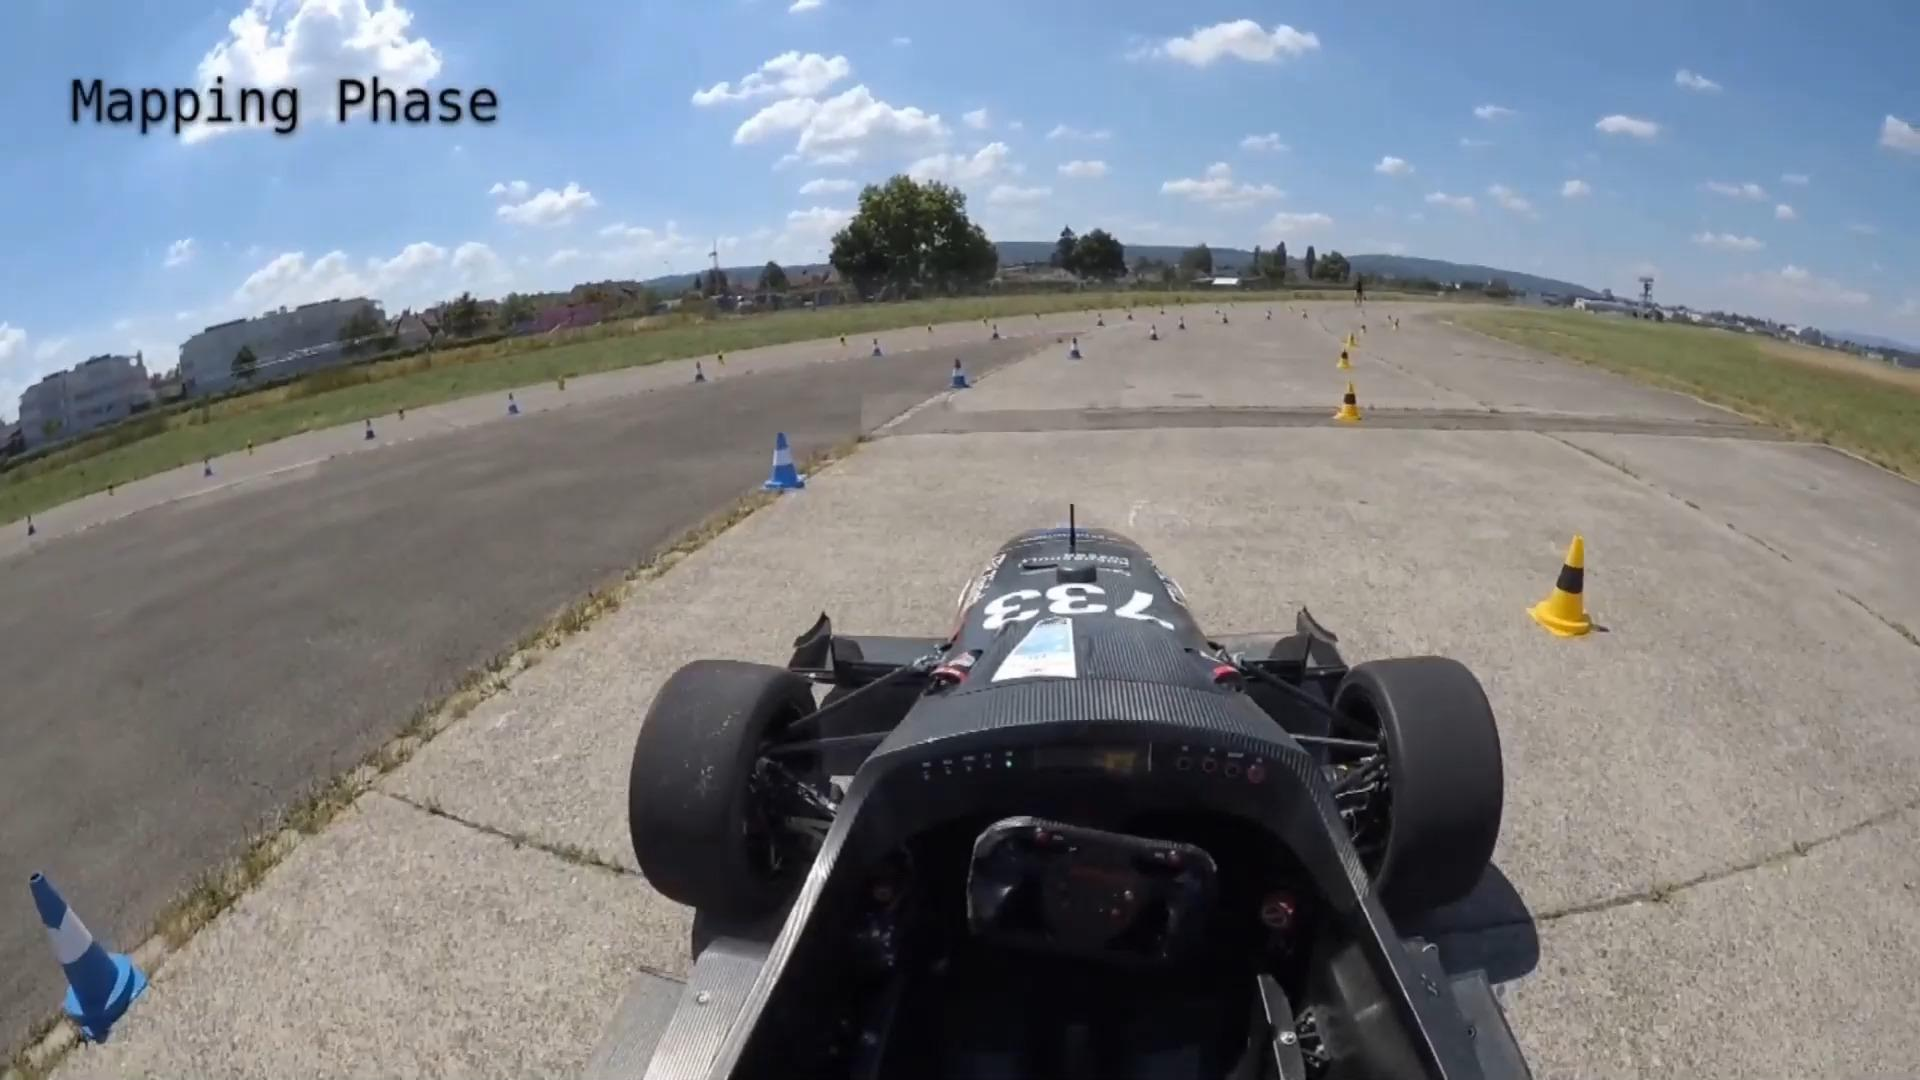blue_cone: (4, 856, 156, 1030), (761, 418, 807, 489), (932, 351, 971, 394), (1063, 323, 1089, 360)
yellow_cone: (1531, 535, 1602, 630), (1331, 382, 1365, 421)
